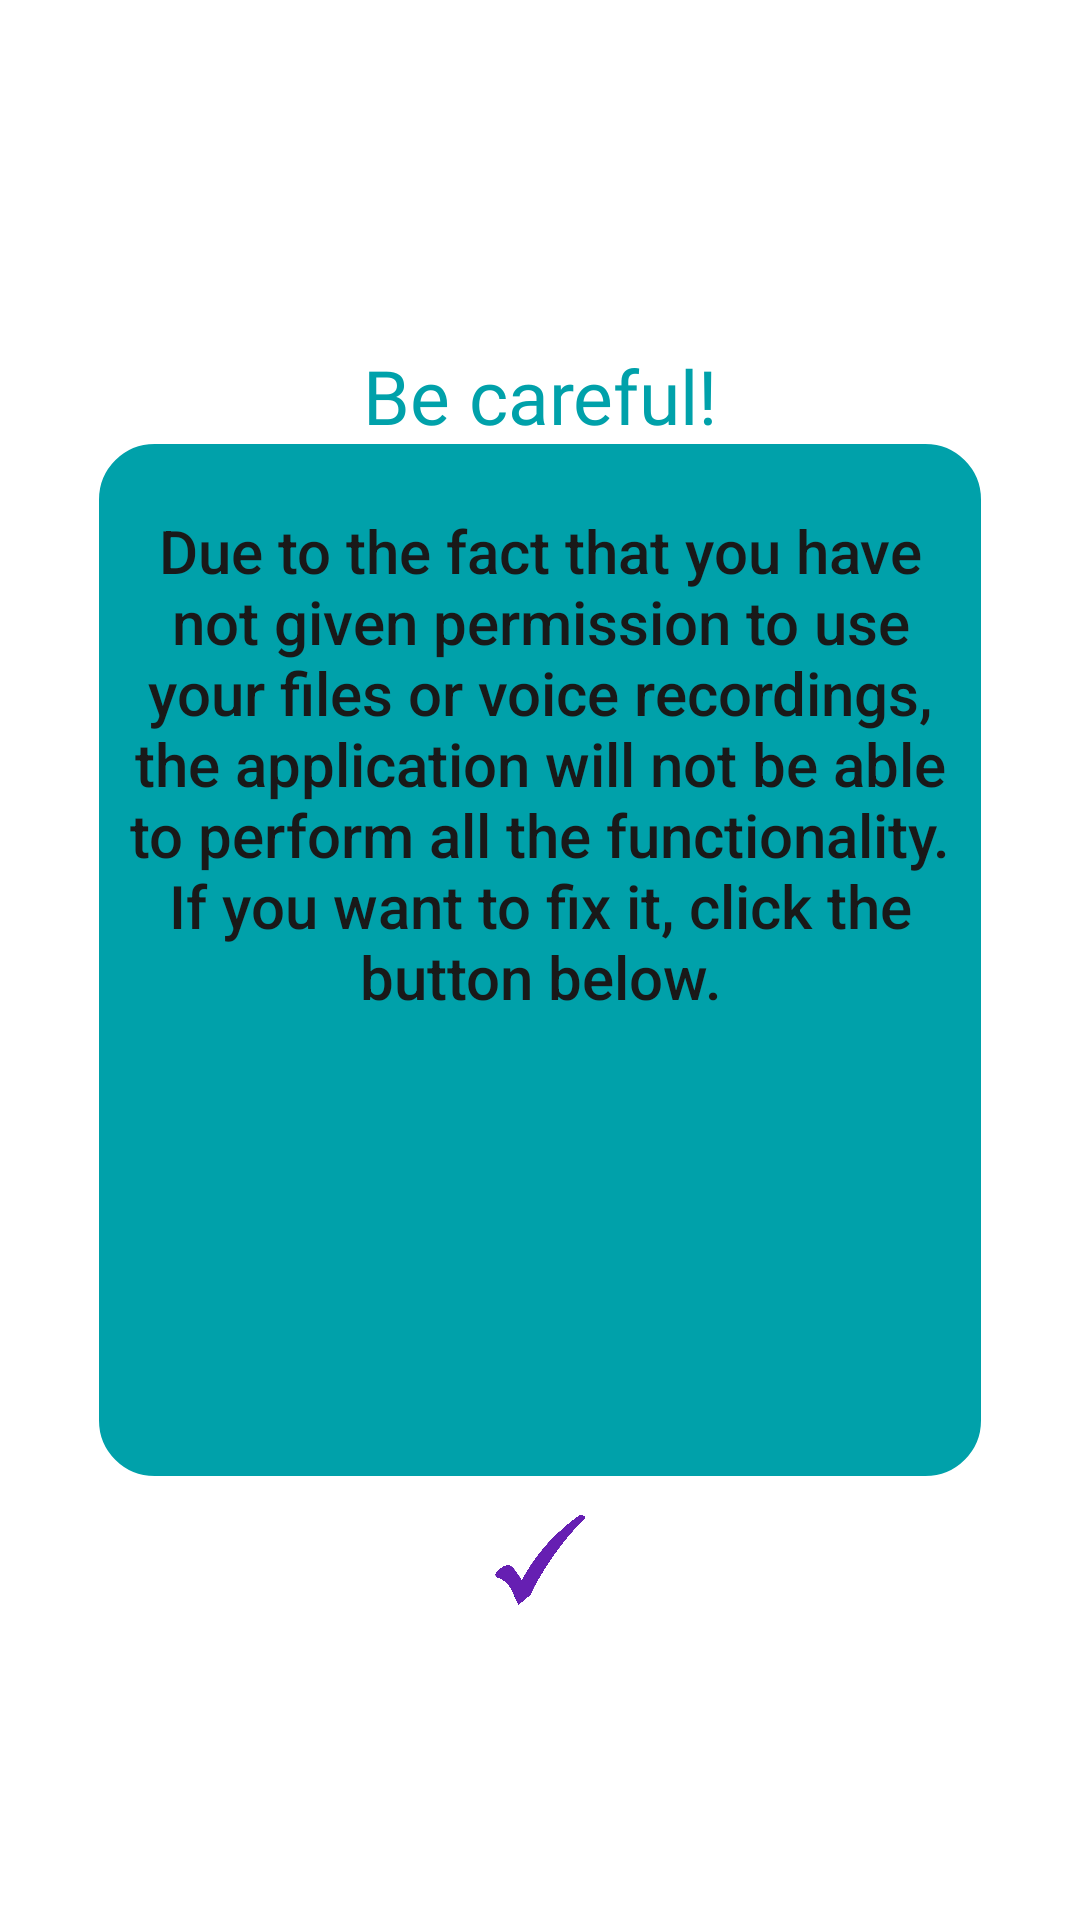

Point at icon controls on the screen. Image size 1080px x 1920px, points as (x,y).
tick: (540,1560)
